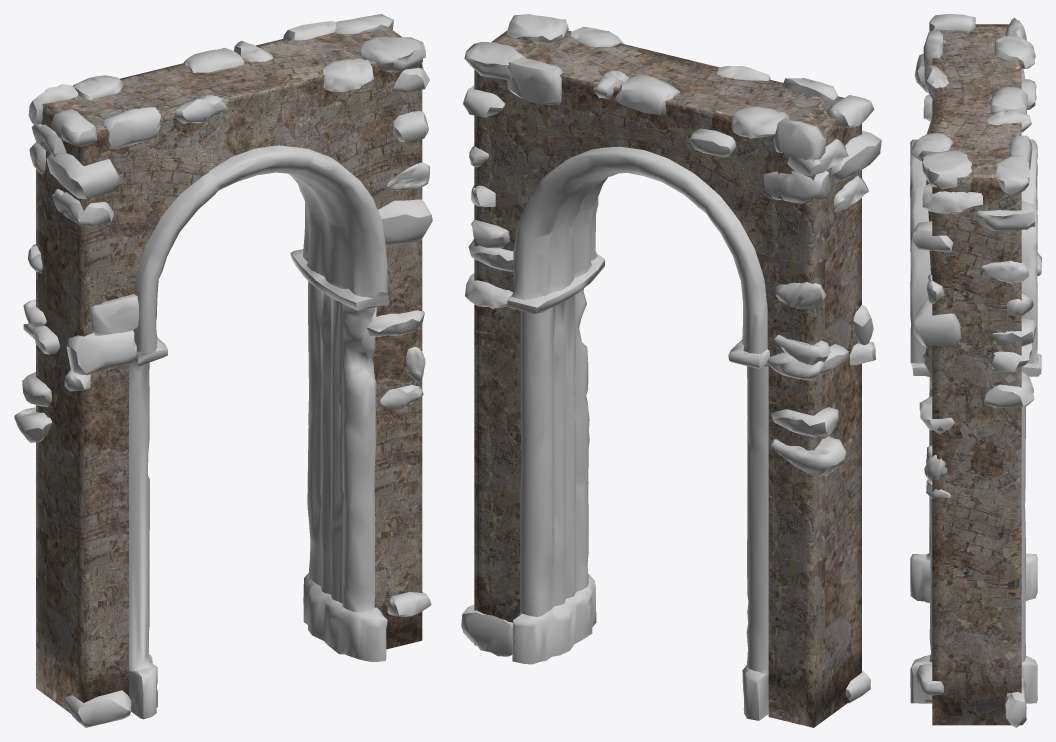
Rendered from SM_WallArch04.FBX.
3 renders of one model, left to right at view 1: azimuth 30°, elevation 25°; view 2: azimuth 150°, elevation 25°; view 3: azimuth 270°, elevation 25°, orthographic. The views are drawn at different scales.
Visible parts, largest first — view 1: SM_WallArch04; view 2: SM_WallArch04; view 3: SM_WallArch04.
Part boxes in pixels (x1,y1,x2,y2): SM_WallArch04: (14, 14, 432, 727); SM_WallArch04: (461, 14, 881, 727); SM_WallArch04: (910, 14, 1041, 727).
Bounding box in the file's own units: 661 × 218 × 1026.
